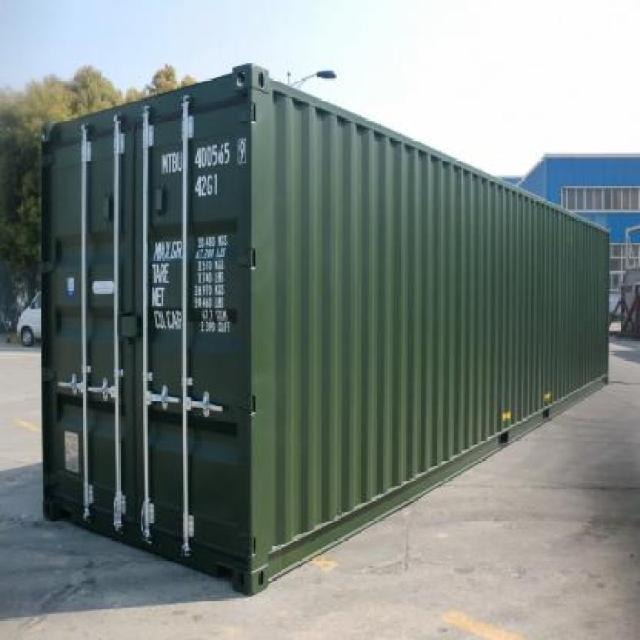ISO: (194, 172, 222, 197)
container_number: (158, 140, 248, 172)
